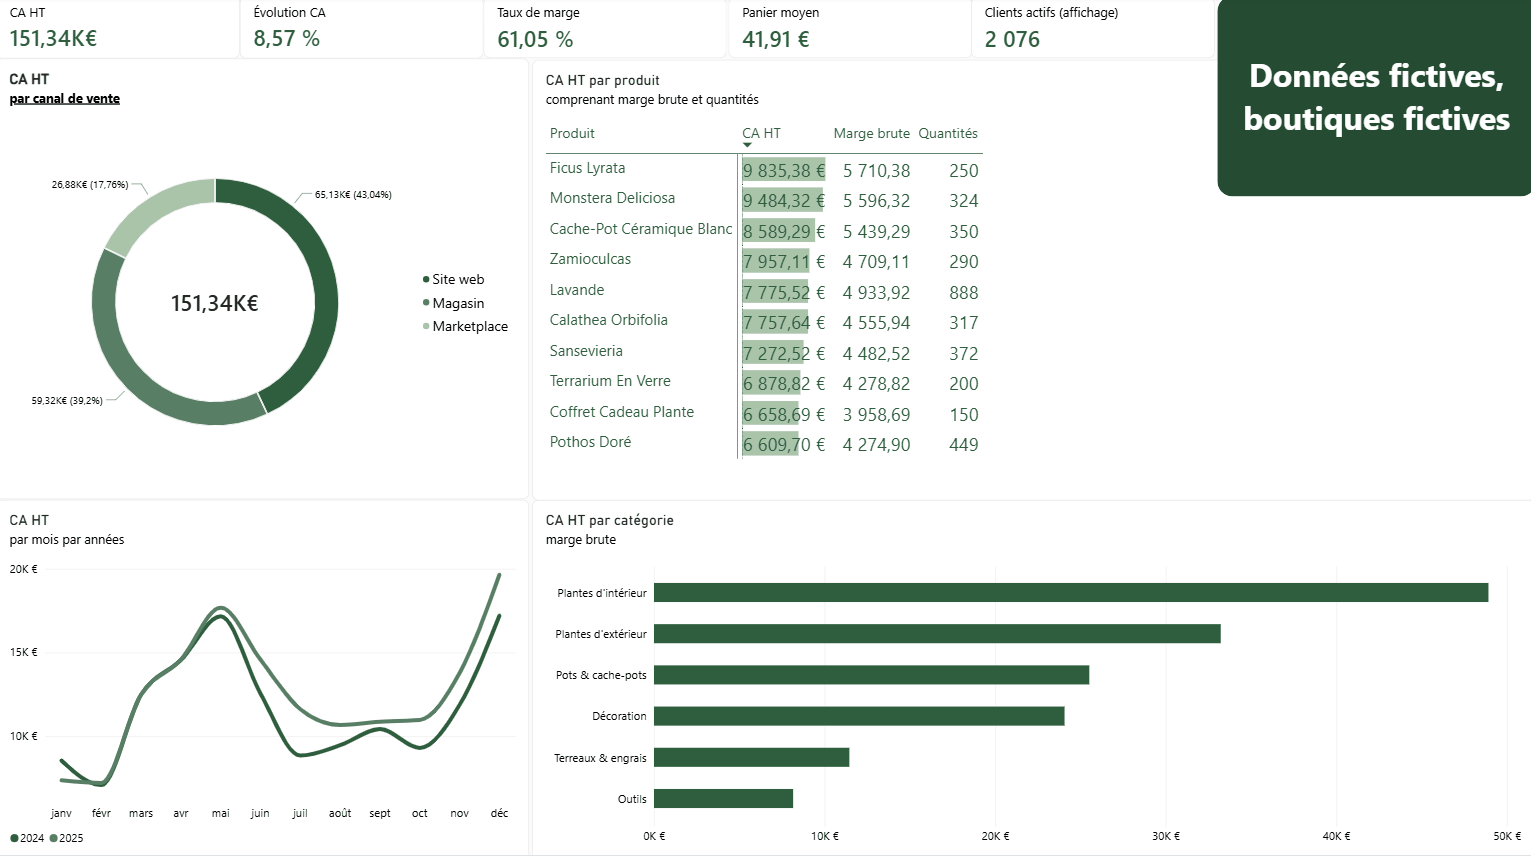

The page's visual inventory and layout, read from the dashboard file:
{"tool":"powerbi","page":{"name":"Page 1","canvas":[1920,1080],"ordinal":0},"visuals":[{"type":"cardVisual","fields":{"Data":["Ventes.CA.HT"]},"box":[0,0,304.6,78.2],"z":0},{"type":"cardVisual","fields":{"Data":["Ventes.Évolution CA"]},"box":[303.6,0,304.6,78.2],"z":1000},{"type":"cardVisual","fields":{"Data":["Ventes.Taux de marge"]},"box":[607.2,2.1,303.6,77],"z":2000},{"type":"cardVisual","fields":{"Data":["Ventes.Panier moyen"]},"box":[913,2.1,304.6,76.2],"z":3000},{"type":"cardVisual","fields":{"Data":["Ventes.Clients actifs (affichage)"]},"box":[1216.6,2.1,304.6,76.2],"z":4000},{"type":"lineChart","title":"CA HT","fields":{"Category":["Calendrier.Mois"],"Series":["Calendrier.Année"],"Y":["Ventes.CA.HT"]},"box":[0,628.6,664.9,453.3],"z":5000},{"type":"clusteredBarChart","title":"CA HT par catégorie","fields":{"Category":["Ventes.Catégorie"],"Y":["Ventes.CA.HT"]},"box":[669.2,628.6,1250.8,451.1],"z":6000},{"type":"pivotTable","title":"CA HT par produit","fields":{"Rows":["Ventes.Produit"],"Values":["Ventes.CA.HT","Ventes.Marge brute","Sum(Ventes.Quantité)"]},"box":[669.2,79.1,1250.8,549.5],"z":7000},{"type":"donutChart","title":"CA HT","fields":{"Category":["Ventes.Canal"],"Y":["Ventes.CA.HT"]},"box":[0,78.2,664.8,549.6],"z":8000},{"type":"actionButton","box":[1522.3,0,397.7,250.2],"z":8005}]}

Visuals, with their boxes in screenshot pixels (x1, y1, x2, y2), scaled from the page's 1920x1080 canvas onto the 1531x856 screenshot:
cardVisual - Ventes.CA.HT: box=[0, 0, 243, 62]
cardVisual - Ventes.Évolution CA: box=[242, 0, 485, 62]
cardVisual - Ventes.Taux de marge: box=[484, 2, 726, 63]
cardVisual - Ventes.Panier moyen: box=[728, 2, 971, 62]
cardVisual - Ventes.Clients actifs (affichage): box=[970, 2, 1213, 62]
"CA HT" lineChart: box=[0, 498, 530, 855]
"CA HT par catégorie" clusteredBarChart: box=[534, 498, 1530, 855]
"CA HT par produit" pivotTable: box=[534, 63, 1530, 498]
"CA HT" donutChart: box=[0, 62, 530, 498]
actionButton: box=[1214, 0, 1530, 198]
